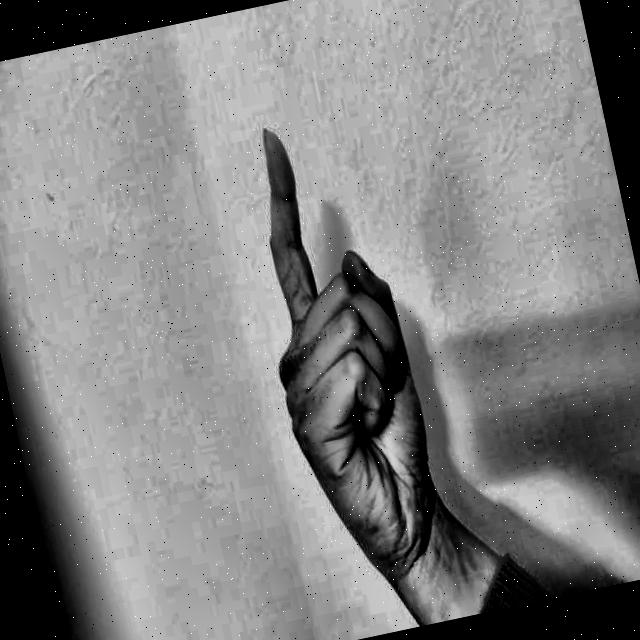U: (196, 69, 494, 591)
